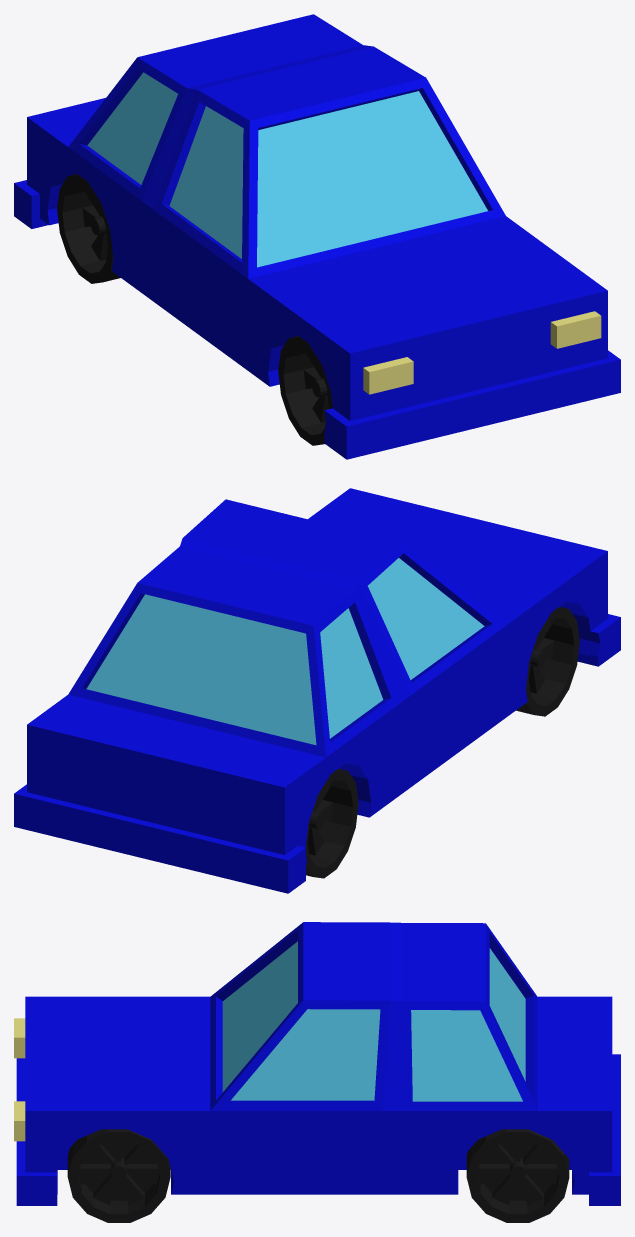
Rendered from car2.fbx.
The picture shows the model from 3 angles, top to bottom: view 1: azimuth 30°, elevation 25°; view 2: azimuth 150°, elevation 25°; view 3: azimuth 270°, elevation 25°; orthographic projection. The views are drawn at different scales.
Visible parts, largest first — view 1: Cube, RLwheel.001, RLwheel.002, Cube.001; view 2: Cube, RLwheel.002, RLwheel.001; view 3: Cube, RLwheel, FLwheel, Cube.001.
Part boxes in pixels (x1,y1,x2,y2): Cube: [14, 14, 620, 459]; RLwheel.001: [57, 174, 120, 283]; RLwheel.002: [278, 336, 332, 445]; Cube.001: [363, 311, 601, 394]; Cube: [14, 488, 620, 893]; RLwheel.002: [516, 606, 579, 716]; RLwheel.001: [306, 768, 358, 878]; Cube: [16, 922, 620, 1205]; RLwheel: [466, 1129, 569, 1222]; FLwheel: [67, 1129, 170, 1222]; Cube.001: [14, 1018, 25, 1141].
Bounding box in the file's own units: 213 × 173 × 449.
